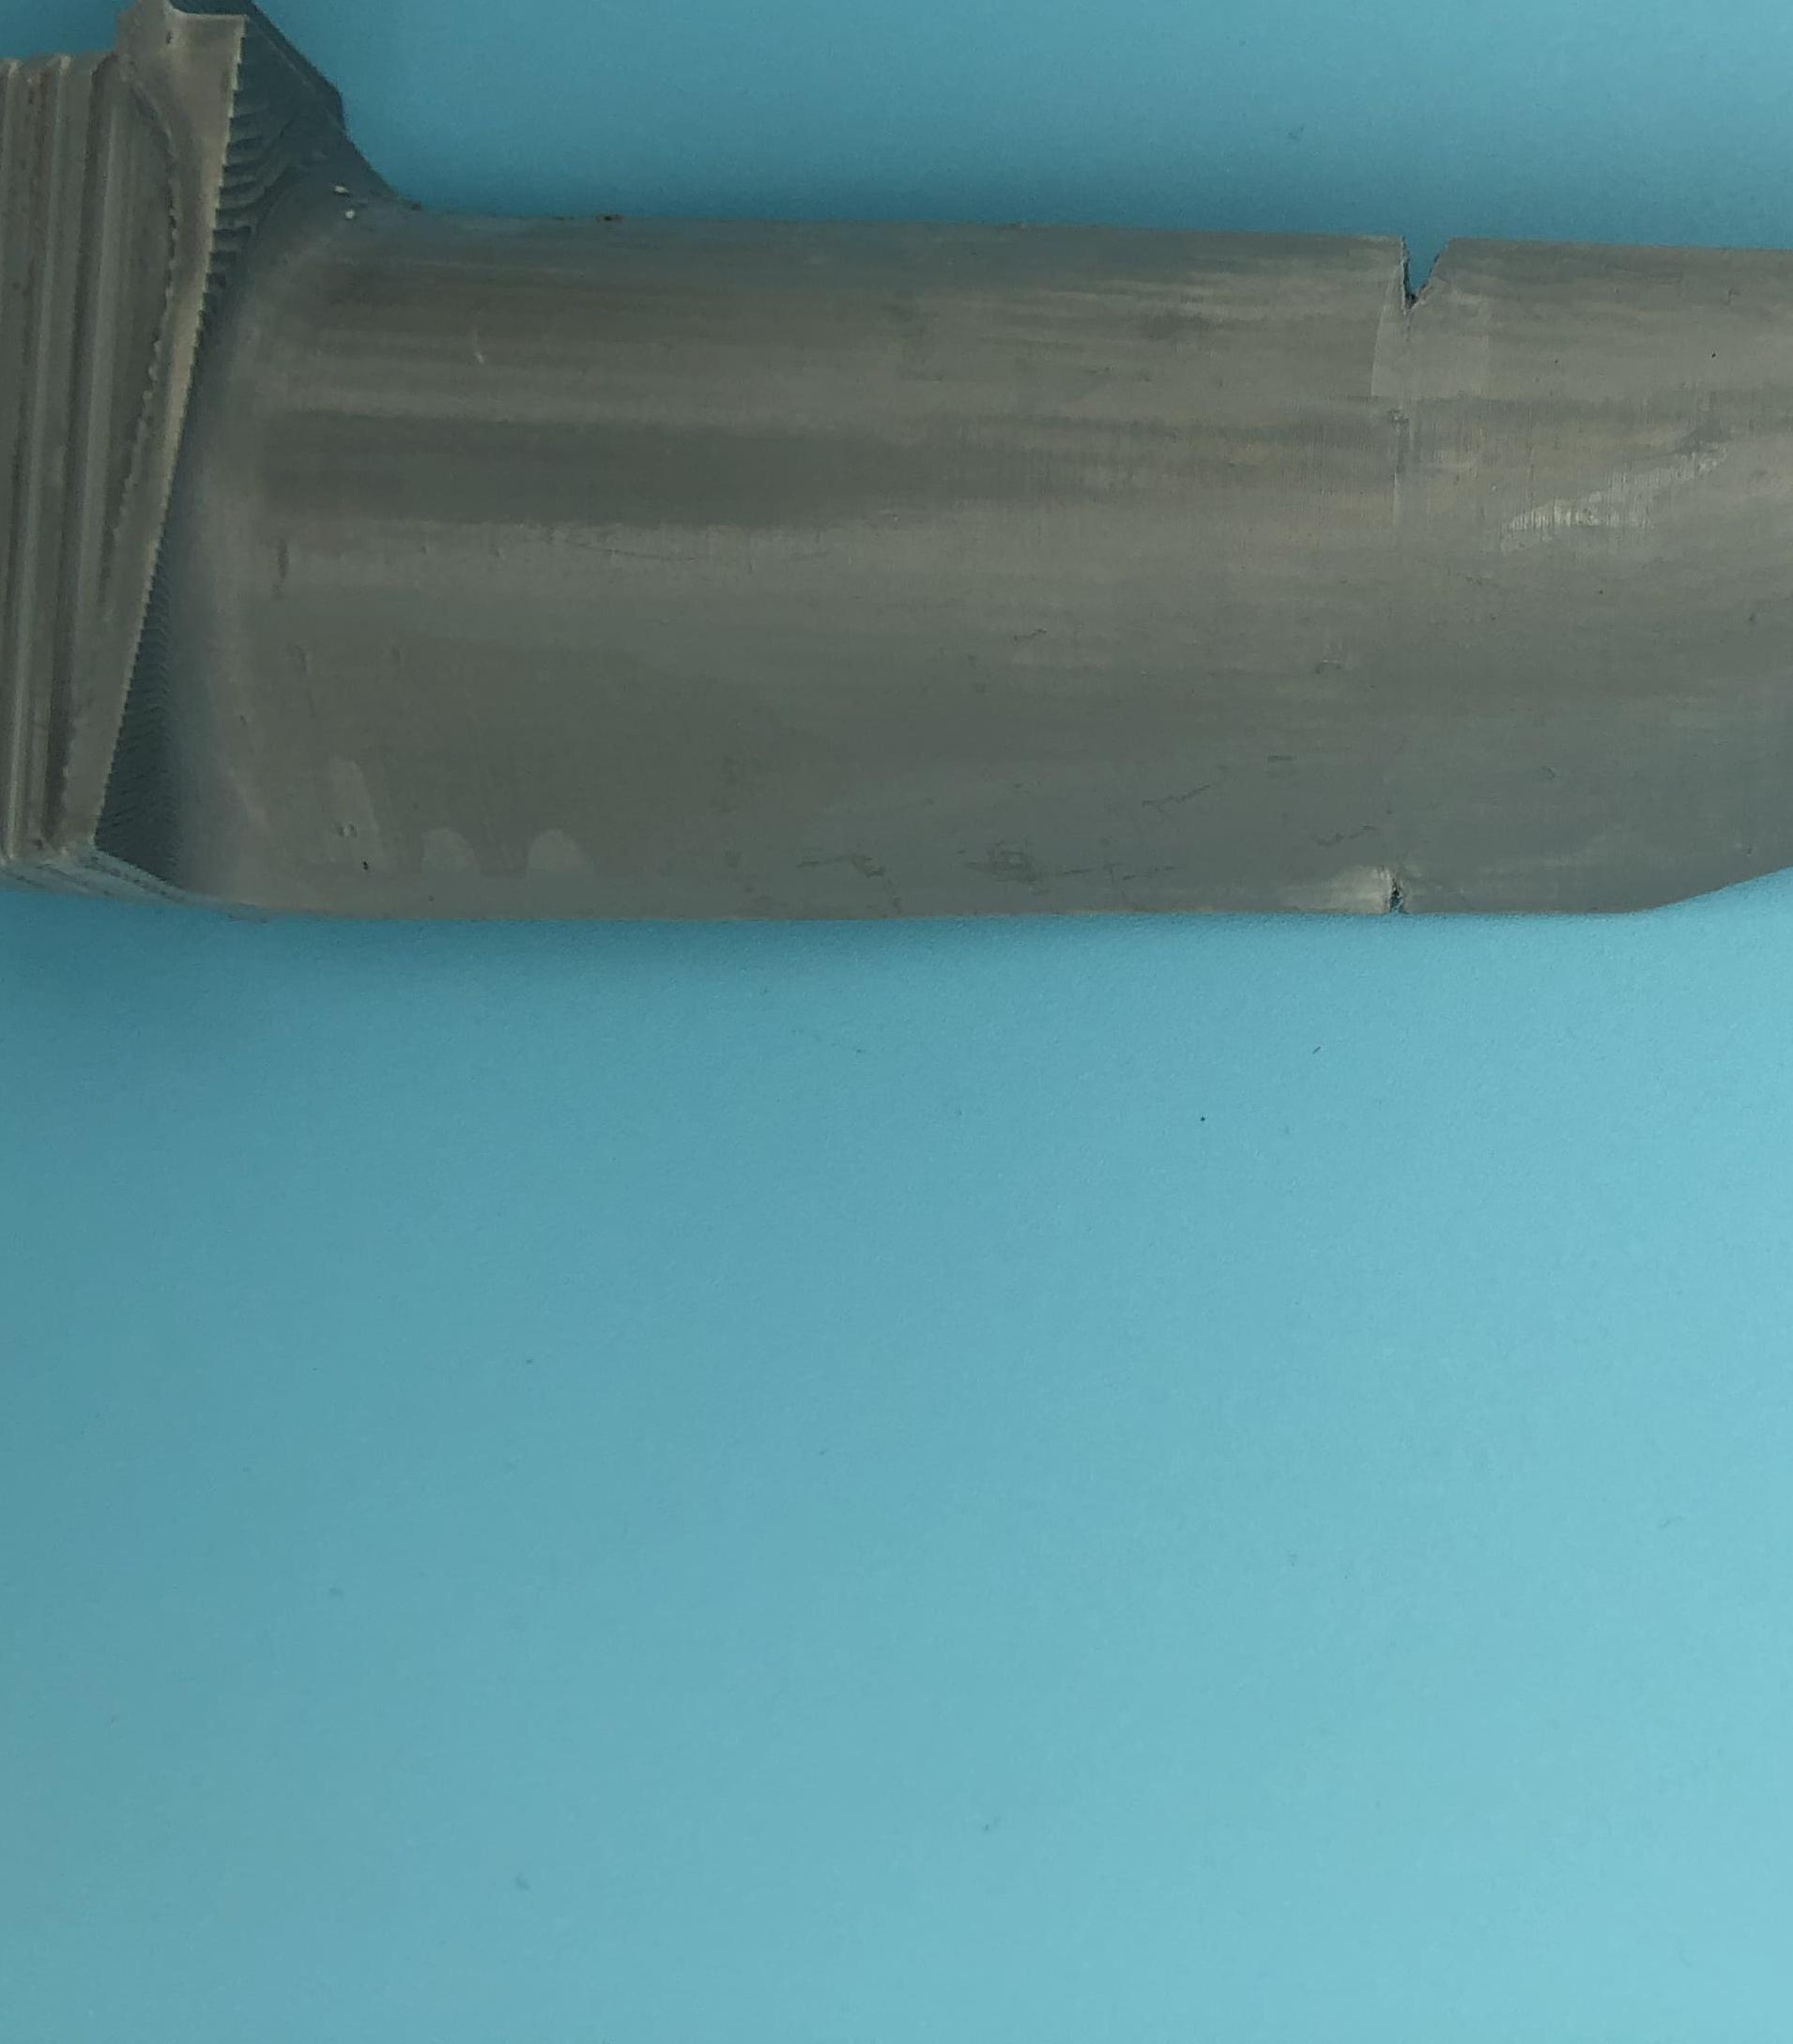groove: (1386, 236, 1475, 328), (1366, 855, 1433, 925)
